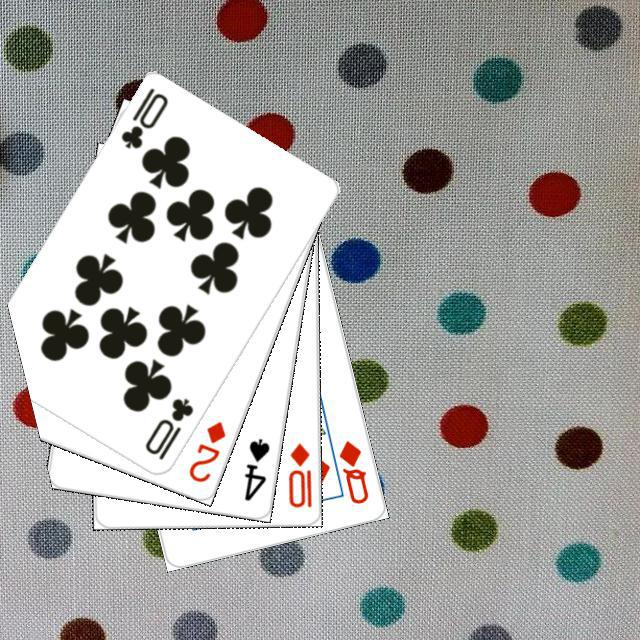10c: (140, 393, 195, 462), (116, 82, 170, 151)
10d: (284, 438, 313, 509)
2d: (183, 416, 228, 484)
4s: (239, 433, 271, 503)
Qd: (334, 435, 370, 506)
